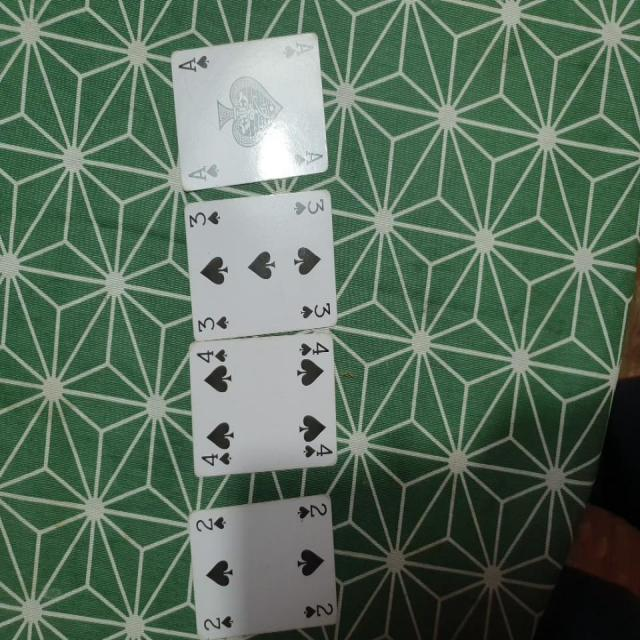2 Spades: (179, 491, 340, 640)
3 Spades: (172, 190, 344, 342)
4 Spades: (183, 330, 341, 487)
A Spades: (161, 26, 344, 191)
